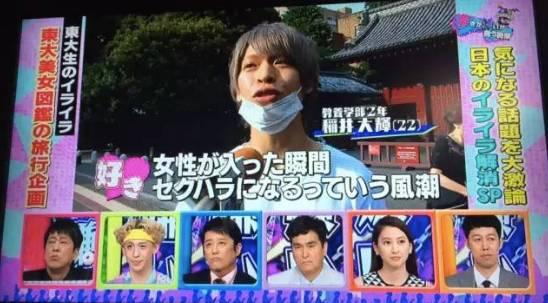NONE: (44, 233, 76, 265), (294, 238, 326, 270), (381, 233, 411, 267), (469, 234, 500, 265), (125, 238, 155, 268), (203, 239, 233, 268)
WRONG: (236, 49, 301, 123)
